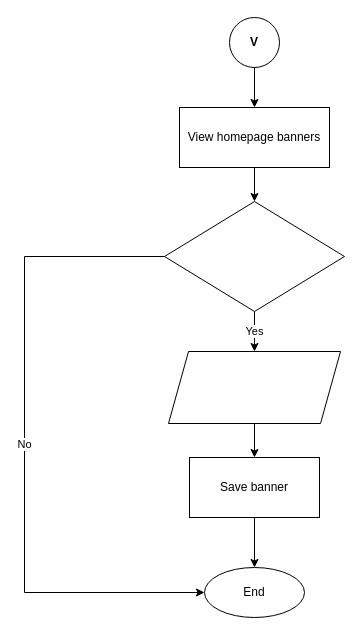
The diagram is 362 pixels wide and 635 high, and some of its shapes have lost their labels. Each missing label, with the centre of its shape:
"Do you want to add or edit a banner?" goes at (x=254, y=256).
"Input title, text, button and photo" goes at (x=254, y=387).
